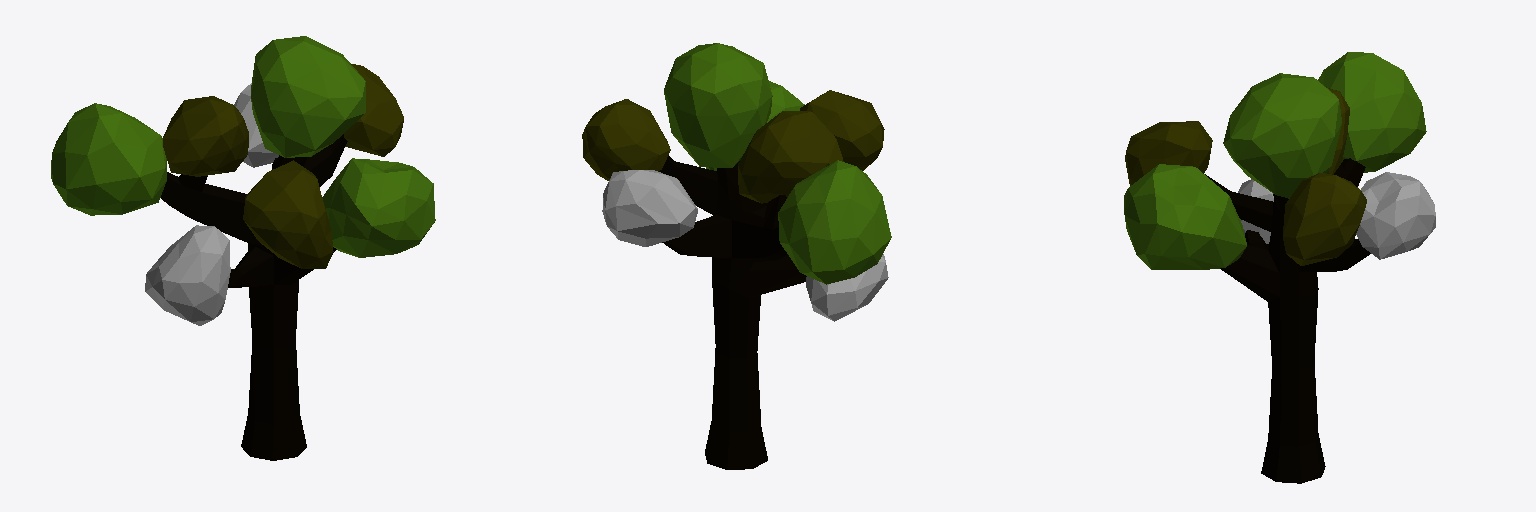
File: tree3.obj
The picture shows the model from 3 angles: view 1: azimuth 30°, elevation 25°; view 2: azimuth 150°, elevation 25°; view 3: azimuth 270°, elevation 25°; orthographic projection.
Parts seen in each view (by area): view 1: Arbre_Normal_Cylinder.002; view 2: Arbre_Normal_Cylinder.002; view 3: Arbre_Normal_Cylinder.002.
Part boxes in pixels (x1,y1,x2,y2): Arbre_Normal_Cylinder.002: (51, 36, 435, 460); Arbre_Normal_Cylinder.002: (582, 43, 891, 469); Arbre_Normal_Cylinder.002: (1124, 52, 1435, 483).
Size of the model in its own units: 3.18 by 3.92 by 2.75.